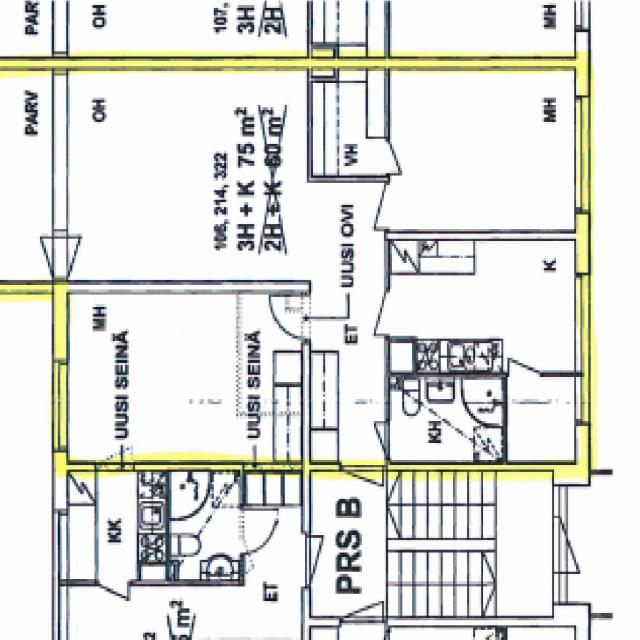door: (342, 464, 383, 519), (53, 237, 102, 280), (17, 237, 66, 280), (347, 184, 392, 230), (266, 296, 311, 340), (348, 292, 389, 334), (353, 422, 389, 460), (509, 334, 540, 378), (384, 140, 420, 174)
